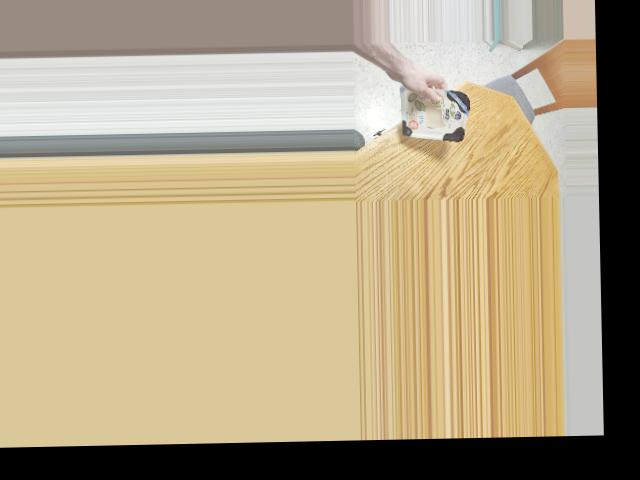cheese: (390, 85, 473, 136)
